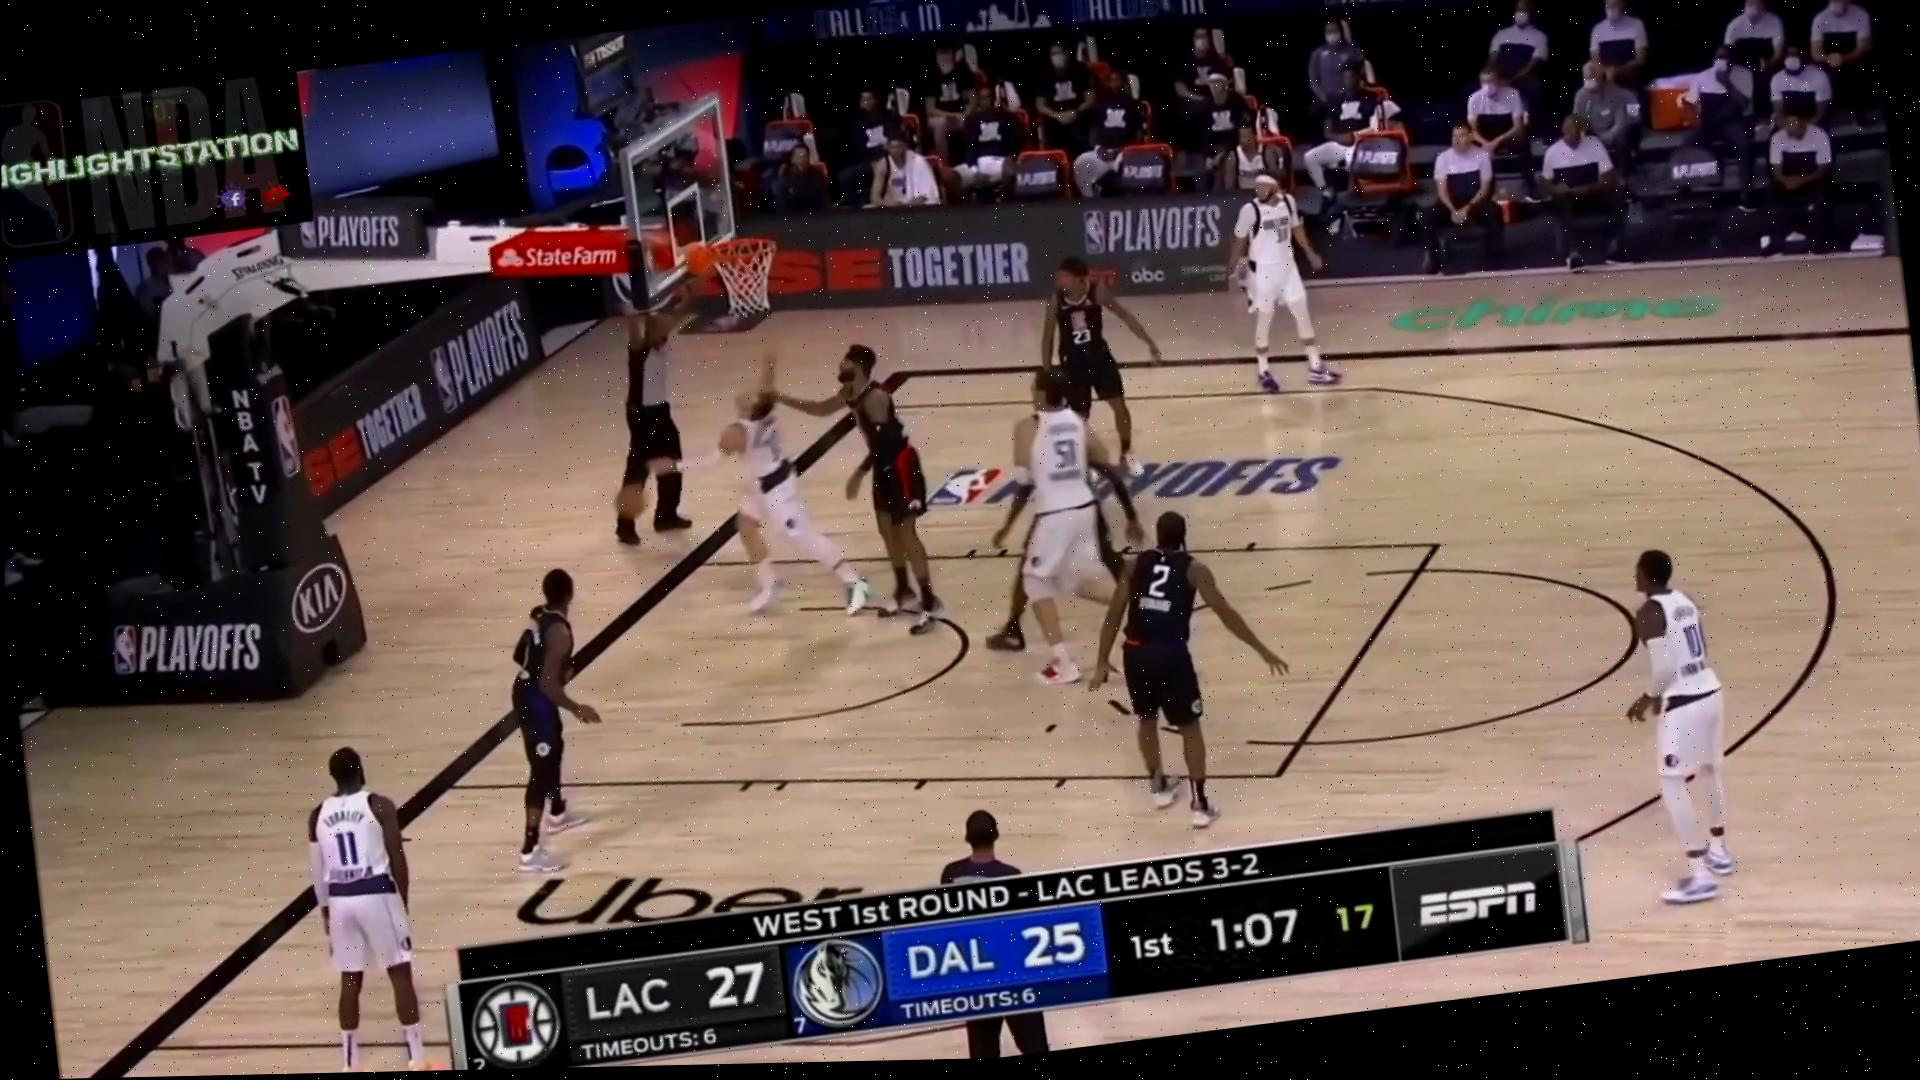foul: (707, 307, 976, 659)
